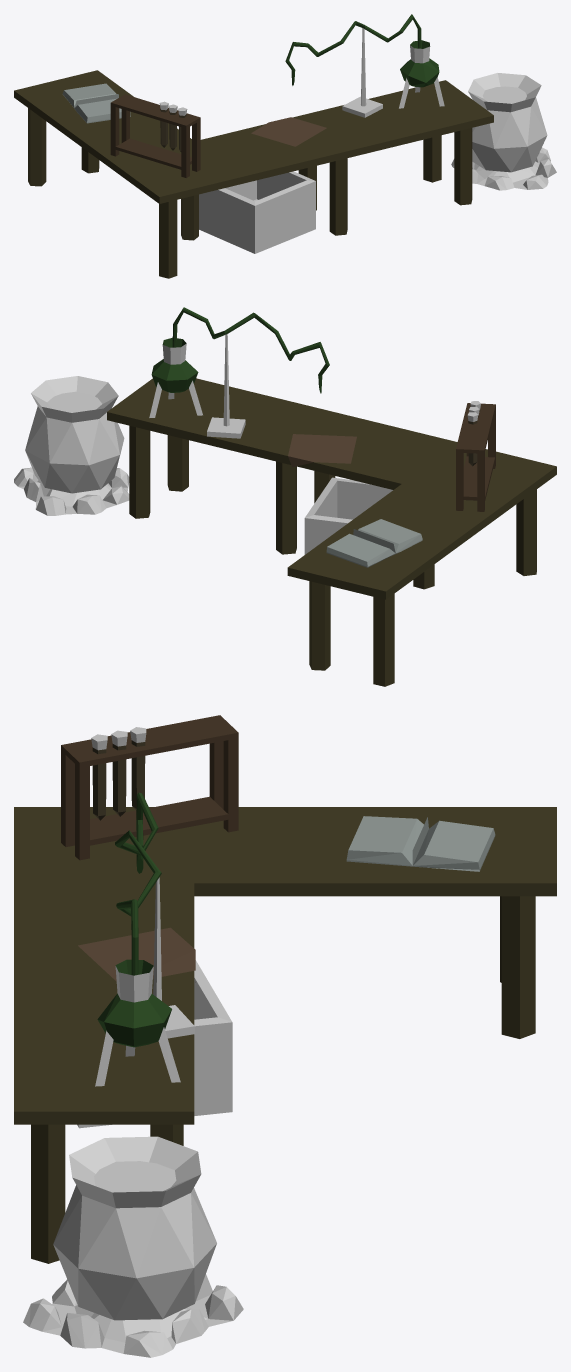
File: LAB_PSI.OBJ
3 views of the same model, one above another, from view 1: azimuth 30°, elevation 25°; view 2: azimuth 150°, elevation 25°; view 3: azimuth 270°, elevation 25° (orthographic). The views are drawn at different scales.
Parts seen in each view (by area): view 1: LAB_PSI; view 2: LAB_PSI; view 3: LAB_PSI.
Part boxes in pixels (box(x1,y1,x2,y2)): LAB_PSI: box(14, 14, 556, 278); LAB_PSI: box(14, 307, 556, 686); LAB_PSI: box(14, 715, 556, 1357).
Bounding box in the file's own units: 5.08 × 2.12 × 3.01.
